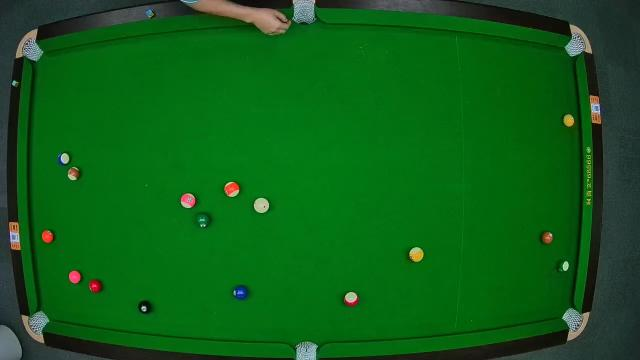bag1: (20, 40, 40, 62)
bag2: (293, 0, 317, 24)
bag3: (568, 34, 586, 54)
bag4: (28, 312, 46, 332)
bag5: (296, 340, 318, 360)
bag6: (562, 309, 584, 331)
ball0: (254, 197, 270, 214)
ball1: (563, 114, 575, 128)
ball10: (56, 152, 70, 166)
ball11: (343, 291, 359, 307)
ball12: (180, 193, 196, 209)
ball13: (223, 181, 241, 199)
ball14: (556, 258, 570, 272)
ball15: (68, 167, 80, 181)
ball2: (234, 284, 250, 300)
ball3: (88, 280, 102, 294)
ball4: (69, 269, 81, 285)
ball5: (41, 229, 54, 243)
ball6: (194, 212, 212, 228)
ball7: (540, 231, 554, 245)
ball8: (138, 301, 152, 315)
ball9: (408, 246, 424, 262)
